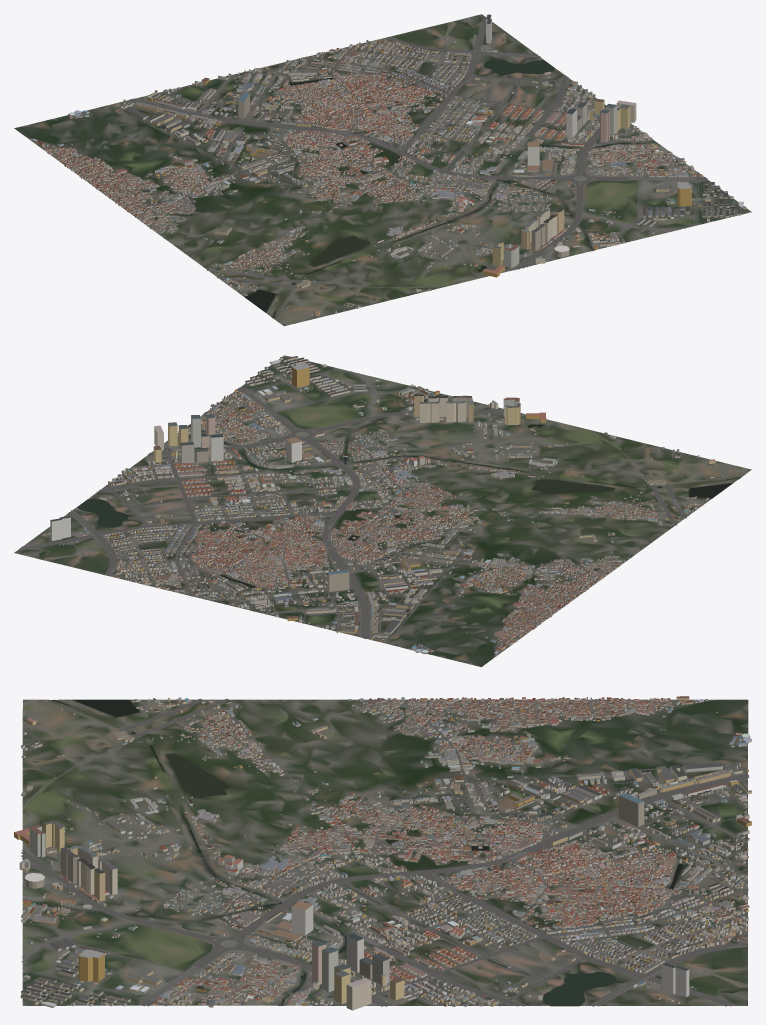
The picture shows the model from 3 angles, top to bottom: view 1: azimuth 30°, elevation 25°; view 2: azimuth 150°, elevation 25°; view 3: azimuth 270°, elevation 25°; orthographic projection. The views are drawn at different scales.
Parts seen in each view (by area): view 1: ground, buildings, roads, water; view 2: ground, buildings, roads, water; view 3: ground, buildings, roads, water.
Part boxes in pixels (left/top/right/bottom): ground: left=14, top=14, right=751, bottom=326; buildings: left=30, top=14, right=746, bottom=316; roads: left=33, top=18, right=707, bottom=324; water: left=189, top=59, right=654, bottom=317; ground: left=14, top=355, right=751, bottom=666; buildings: left=42, top=356, right=723, bottom=655; roads: left=19, top=368, right=748, bottom=652; water: left=77, top=394, right=740, bottom=602; ground: left=22, top=699, right=748, bottom=1006; buildings: left=14, top=696, right=751, bottom=1010; roads: left=21, top=698, right=749, bottom=1006; water: left=31, top=699, right=682, bottom=1005.
Bounding box in the file's own units: 2853 × 169 × 2853.
